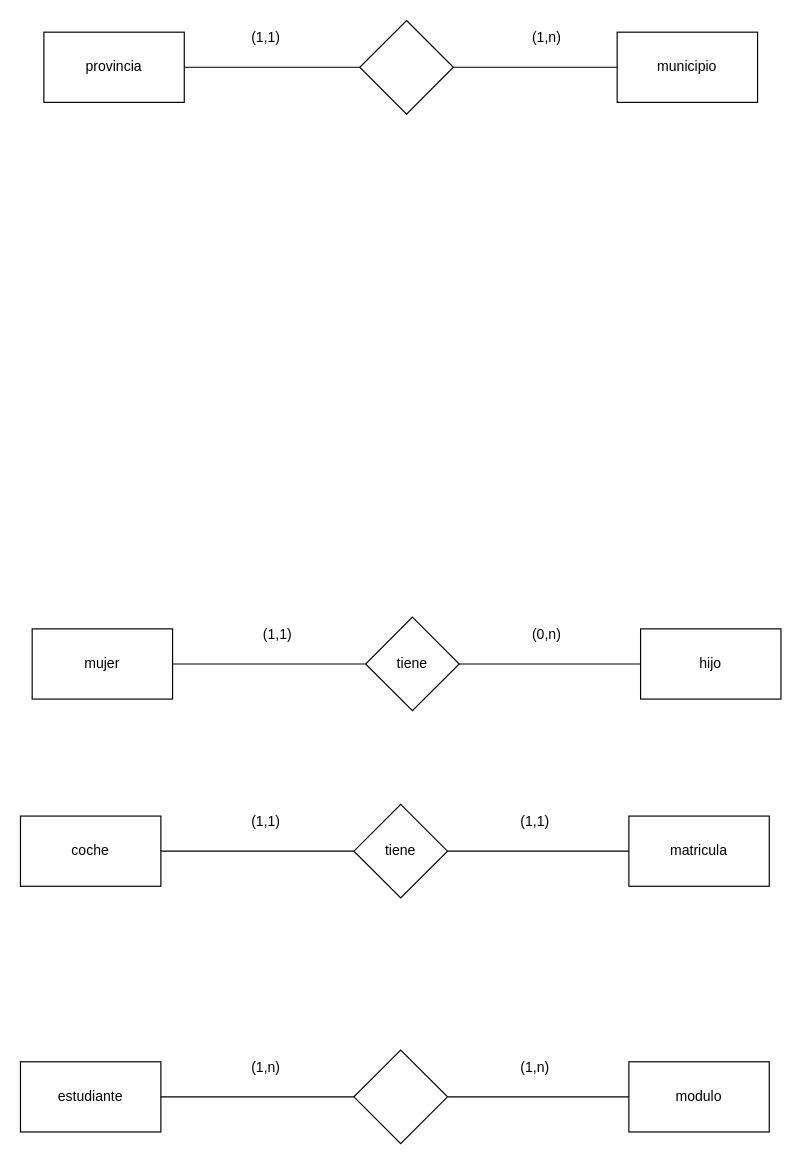
The diagram is 801 pixels wide and 1164 high, and some of its shapes have lost their labels. Here are the shapes that lost their labels. From the top down, the centre of each, then its label:
pixel 406 66: compuesta
pixel 400 1096: cursa
